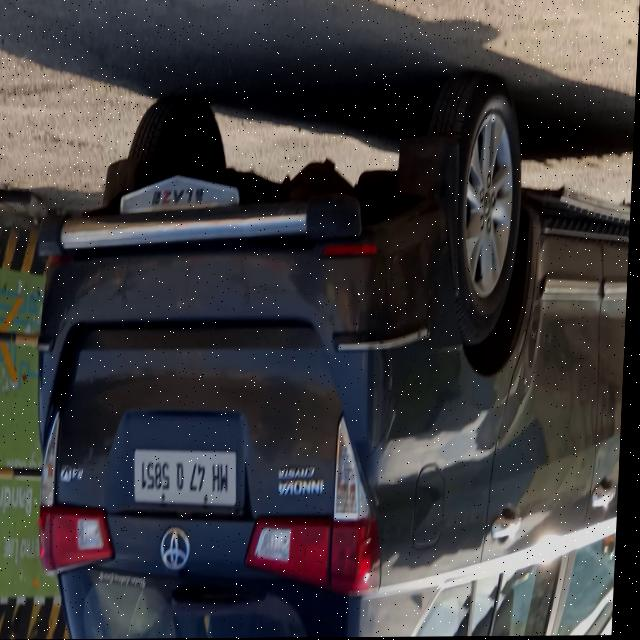plate: (136, 448, 244, 510)
